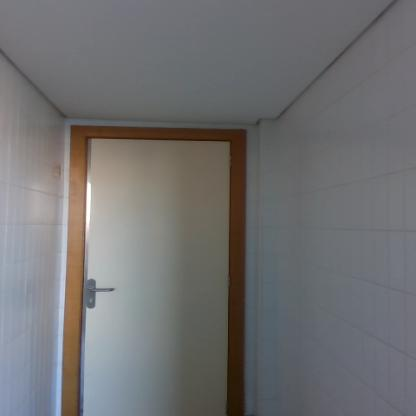door: (82, 134, 228, 414)
hinged: (224, 400, 230, 416), (228, 154, 233, 168), (226, 275, 231, 288)
lever: (88, 286, 116, 293)
